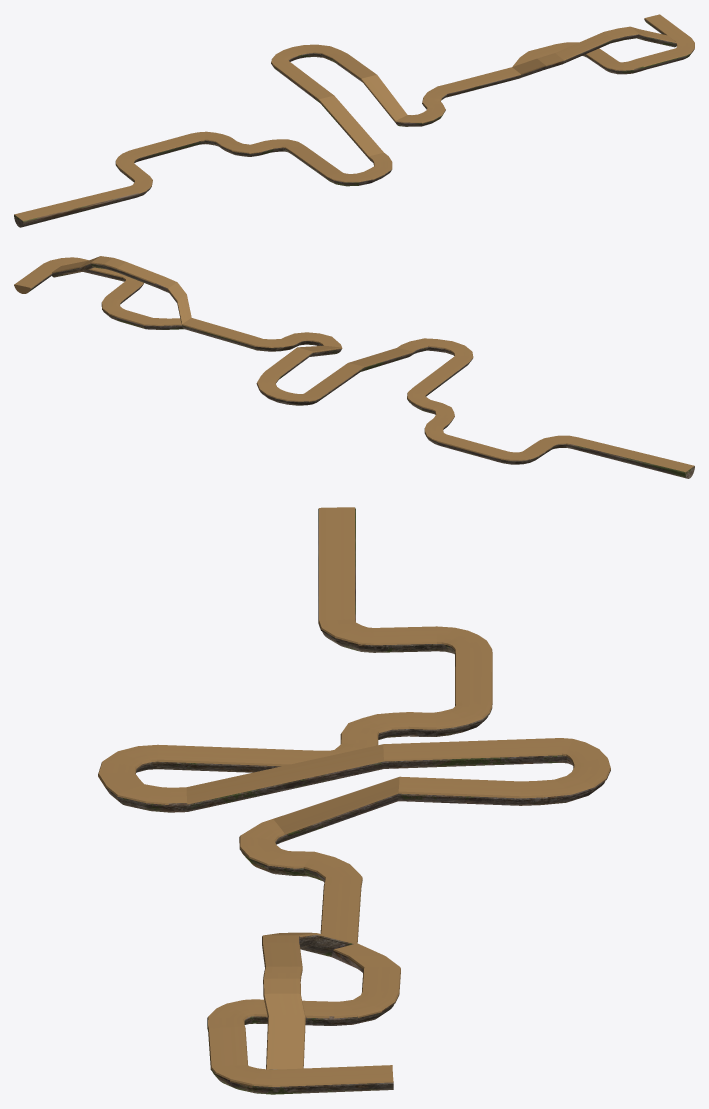
The model's file is TestiBaumstammStrecke.fbx.
3 renders of one model, top to bottom at view 1: azimuth 30°, elevation 25°; view 2: azimuth 150°, elevation 25°; view 3: azimuth 270°, elevation 25°, orthographic. The views are drawn at different scales.
Visible parts, largest first — view 1: Cylinder.009; view 2: Cylinder.009; view 3: Cylinder.009.
Boxes of the visible parts, x1,y1,x2,y2 form: Cylinder.009: [14, 14, 694, 227]; Cylinder.009: [14, 256, 694, 478]; Cylinder.009: [98, 507, 610, 1094].
Size of the model in its own units: 80.11 by 7.16 by 27.09.
Materials: 2 (1 with a texture image).
